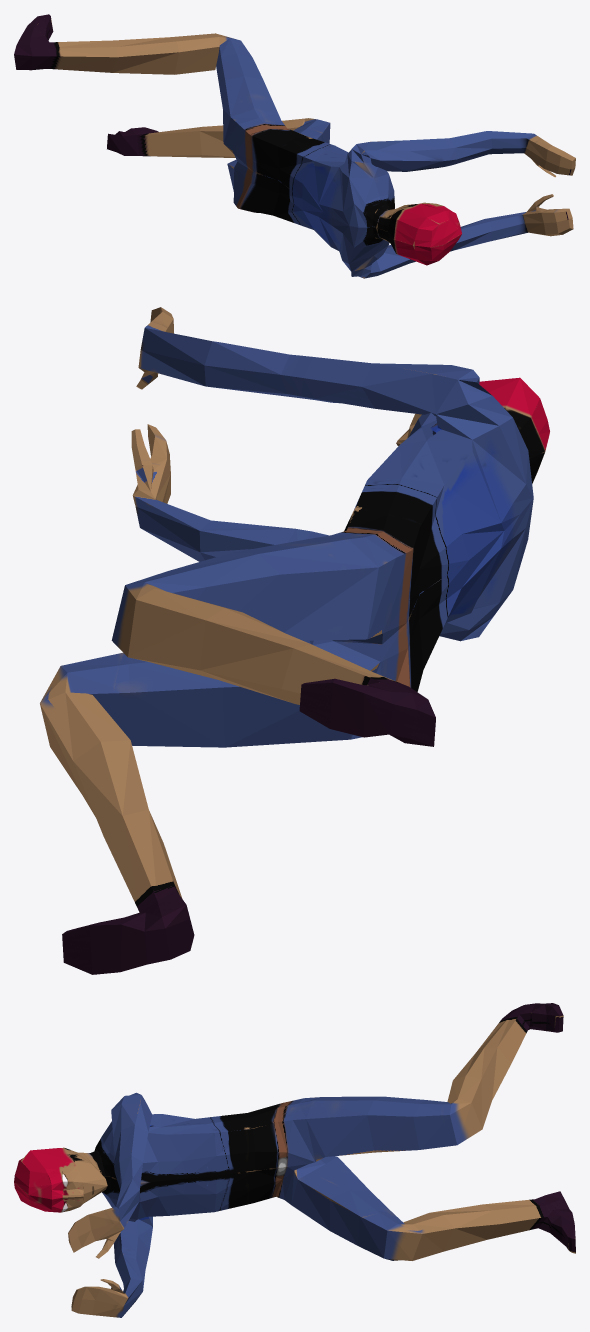
File: mirrorman_000014.obj
3 views of the same model, one above another, from view 1: azimuth 30°, elevation 25°; view 2: azimuth 150°, elevation 25°; view 3: azimuth 270°, elevation 25° (orthographic). The views are drawn at different scales.
Visible parts, largest first — view 1: mirrorman_Cube.001_Material.001; view 2: mirrorman_Cube.001_Material.001; view 3: mirrorman_Cube.001_Material.001.
Boxes of the visible parts, box(x1,y1,x2,y2) form: mirrorman_Cube.001_Material.001: box(14, 14, 575, 278); mirrorman_Cube.001_Material.001: box(40, 307, 549, 974); mirrorman_Cube.001_Material.001: box(14, 1003, 575, 1317).
Size of the model in its own units: 1.2 by 0.5494 by 1.52.
